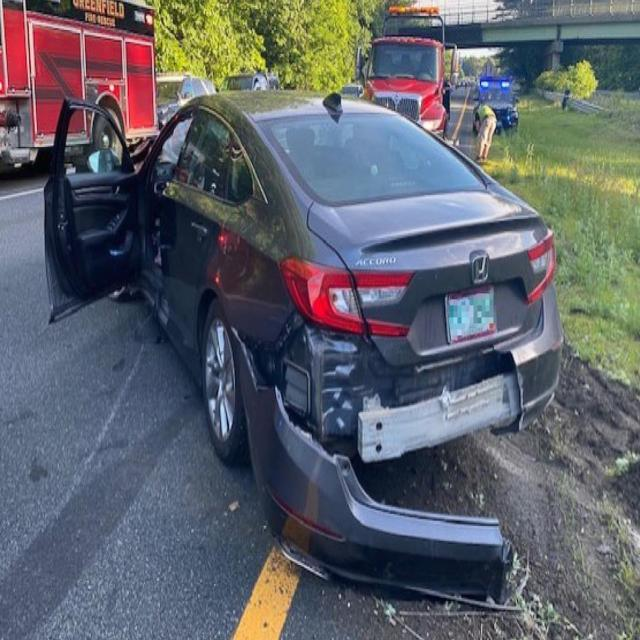accident: (45, 94, 562, 597)
truck: (355, 8, 450, 134)
